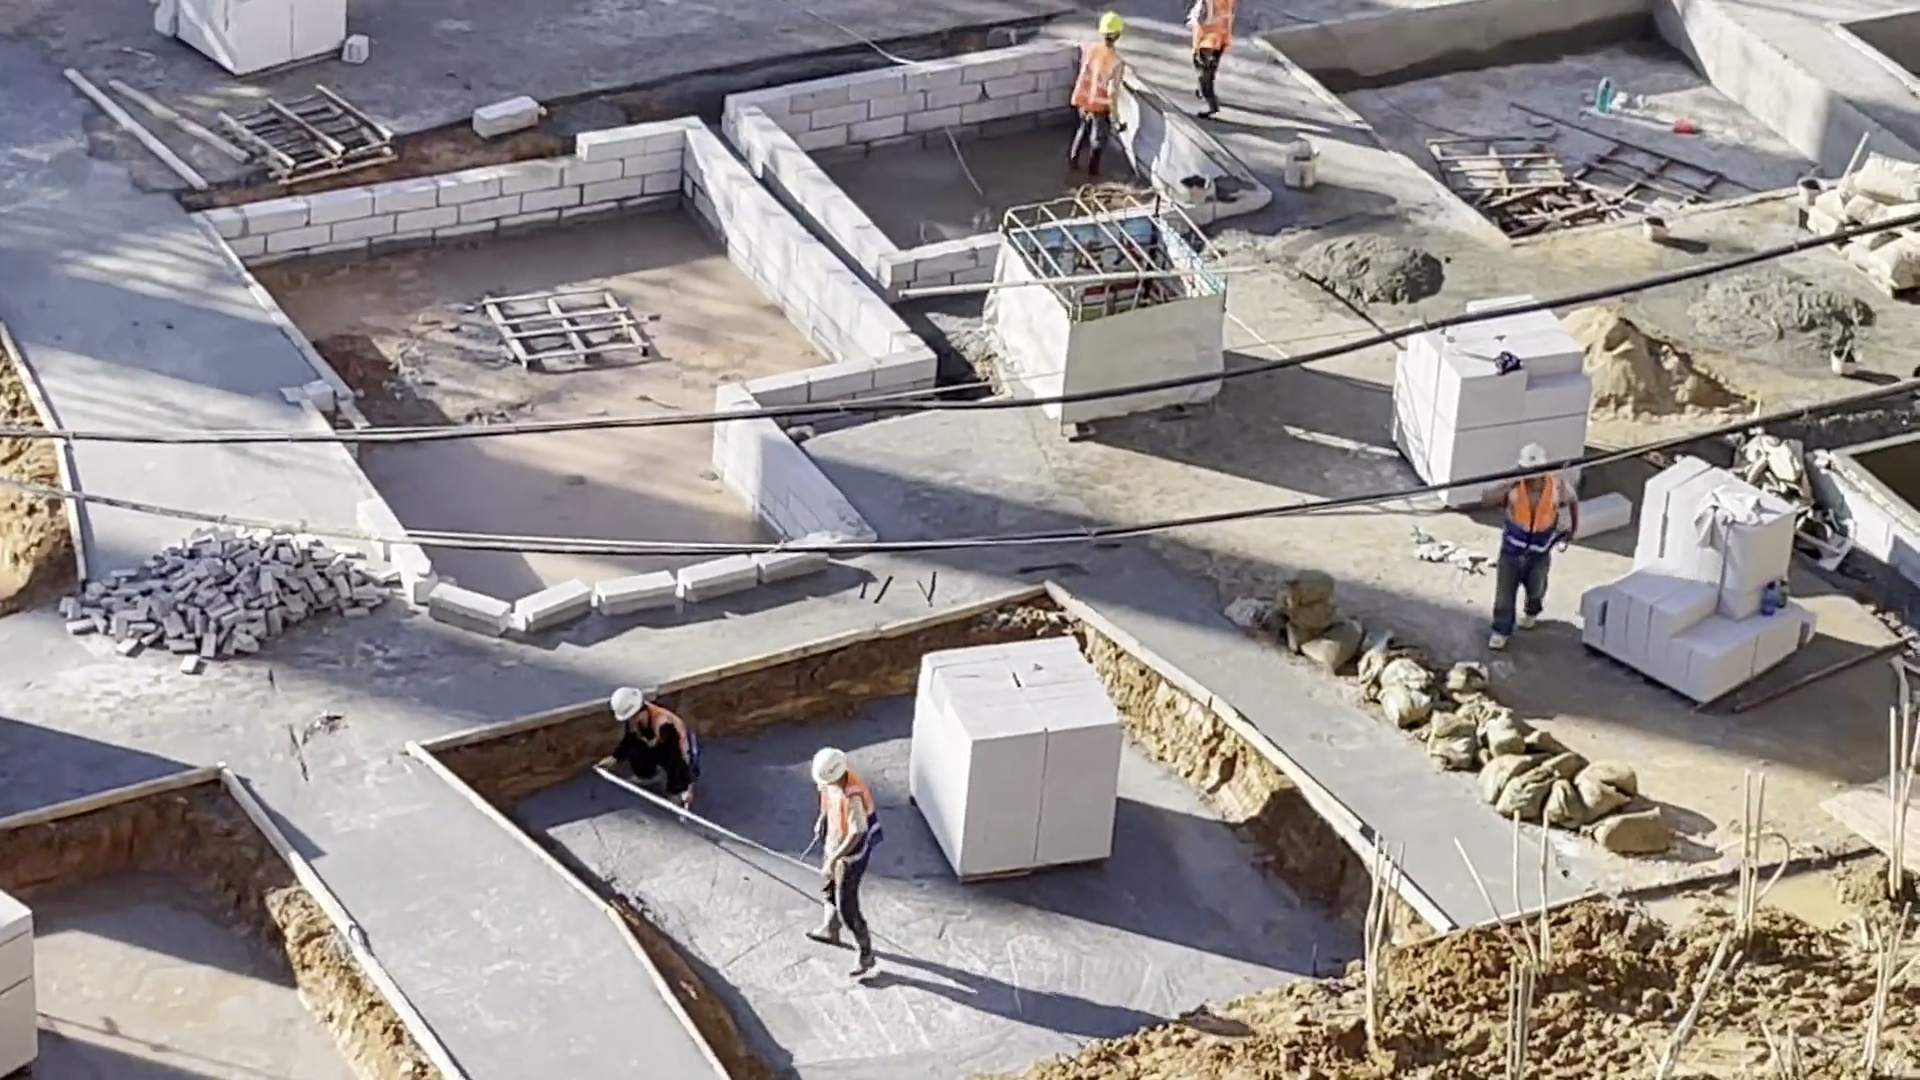brick: (1580, 452, 1821, 702), (905, 635, 1123, 885), (1390, 338, 1594, 465), (162, 4, 361, 83), (4, 905, 43, 1080)
helmet: (801, 745, 852, 785), (608, 686, 647, 723), (1095, 11, 1129, 39), (1517, 450, 1547, 465)
person: (797, 741, 885, 982), (1480, 445, 1581, 650), (589, 680, 704, 812), (1067, 11, 1130, 180), (1178, 2, 1245, 126)
vest: (818, 779, 882, 865), (1505, 480, 1561, 554), (1072, 44, 1127, 116), (639, 707, 697, 757), (1190, 1, 1232, 52)
